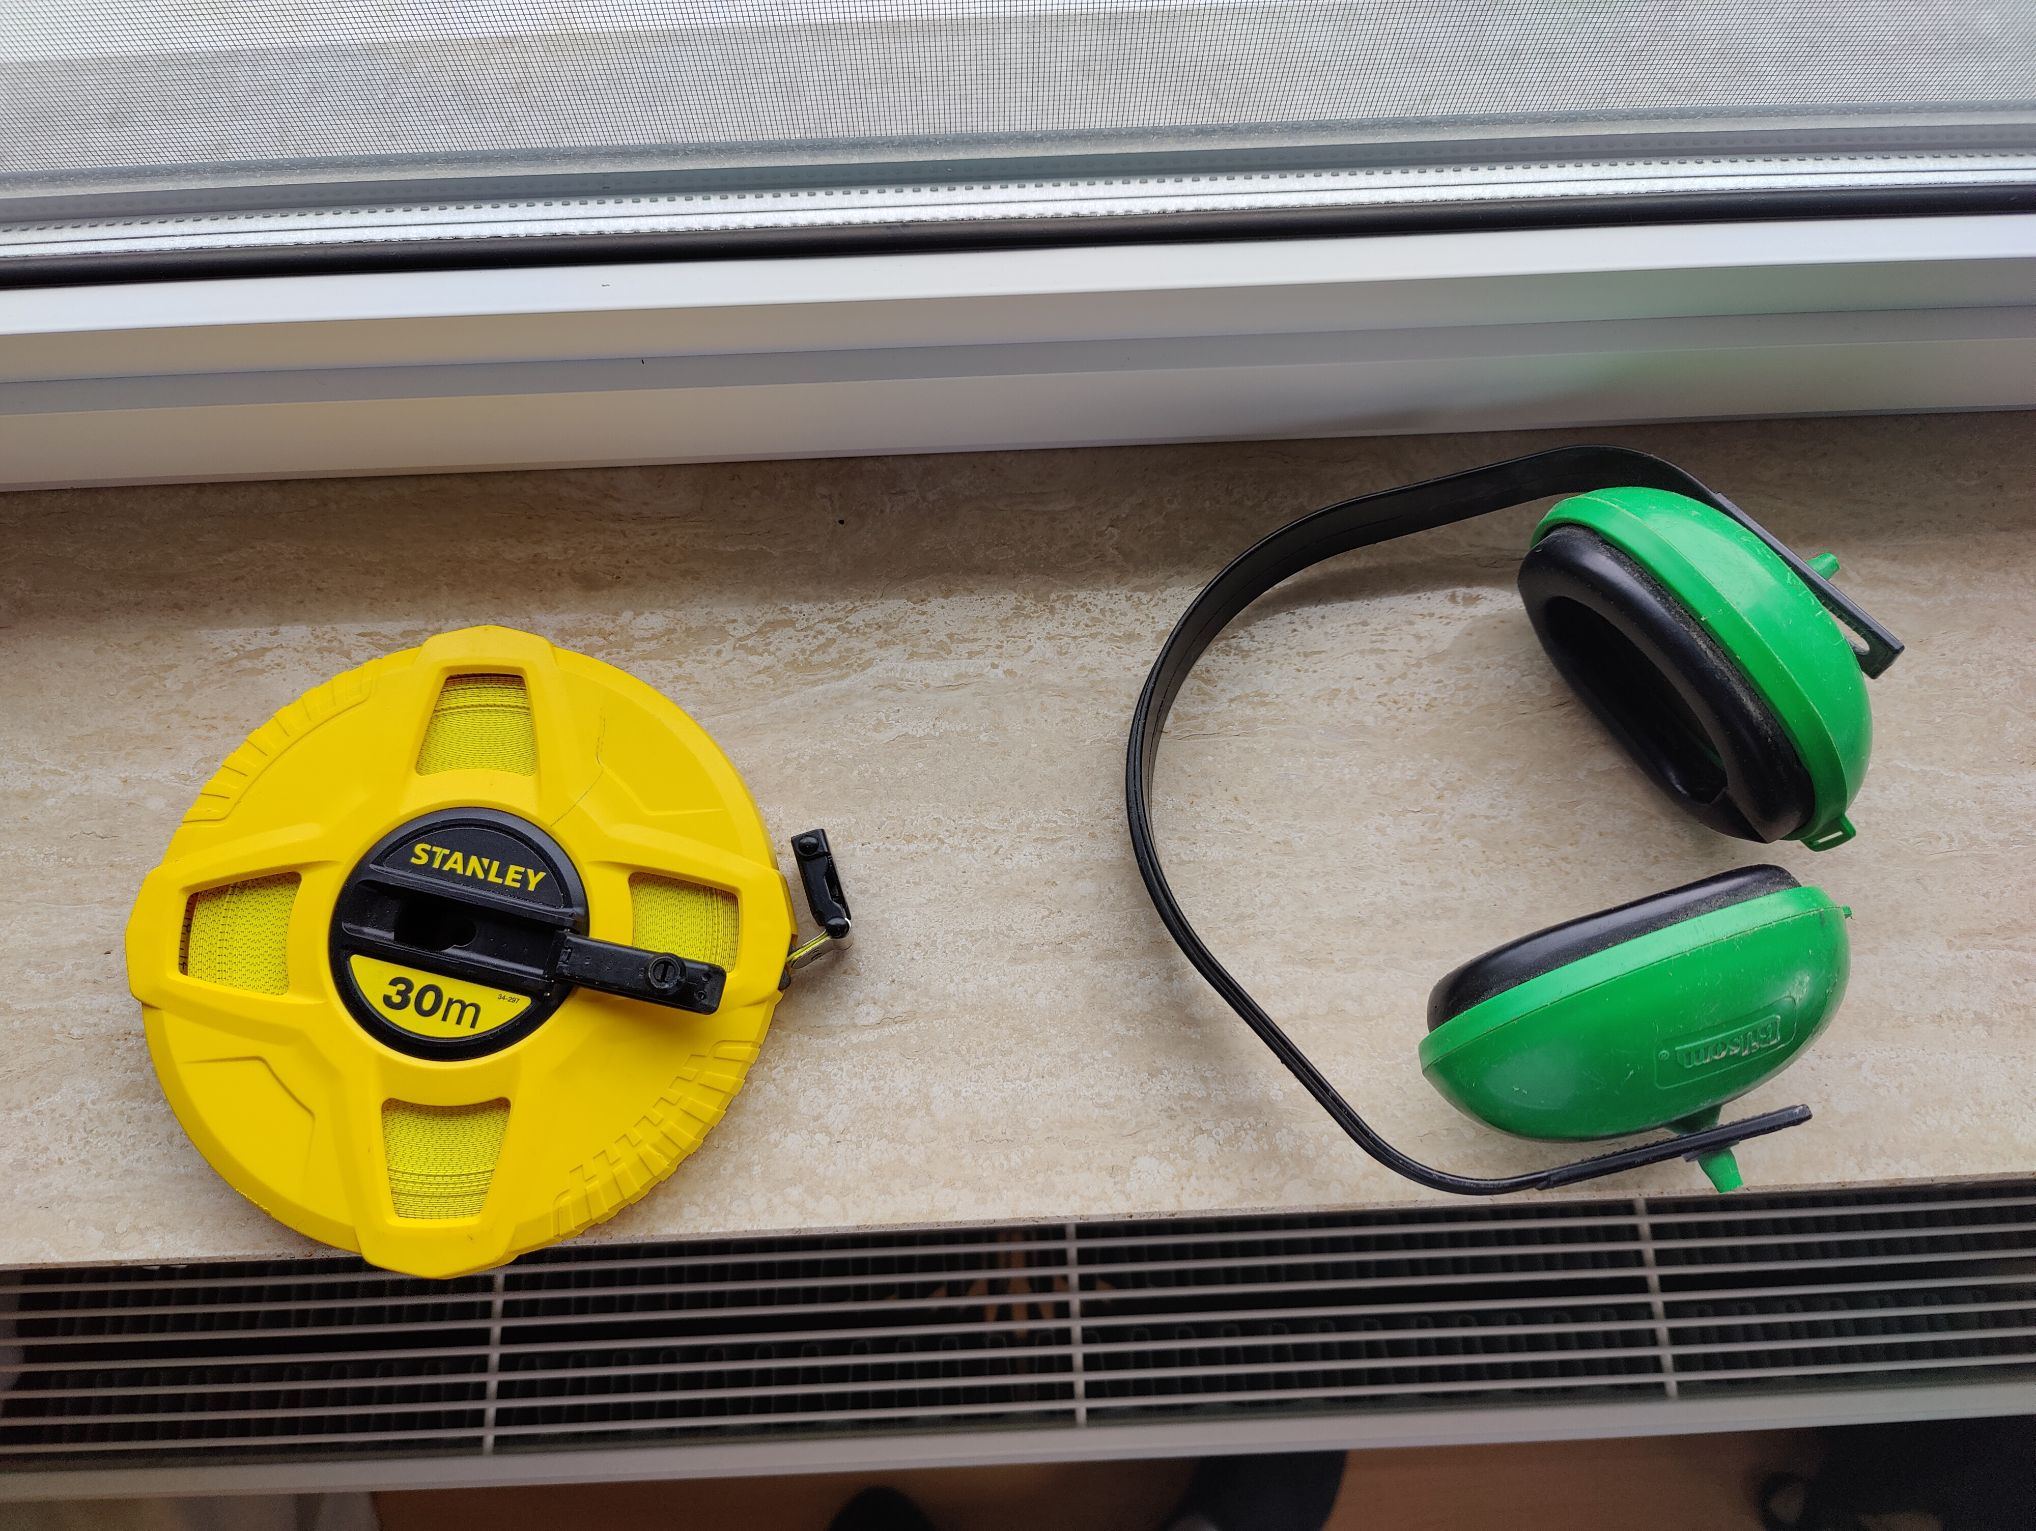headphones: (1118, 447, 1903, 1192)
tapemeasure: (125, 630, 846, 1267)
